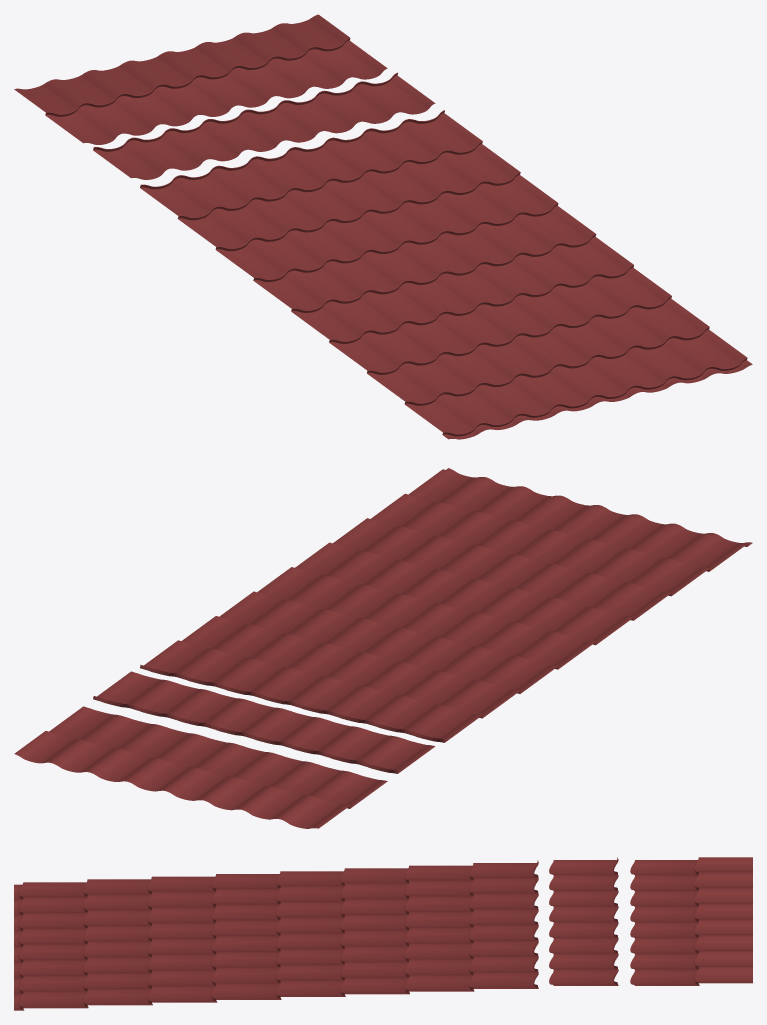
The model's file is roofingsheet.glb.
The picture shows the model from 3 angles, top to bottom: view 1: azimuth 30°, elevation 25°; view 2: azimuth 150°, elevation 25°; view 3: azimuth 270°, elevation 25°; orthographic projection. The views are drawn at different scales.
Parts seen in each view (by area): view 1: metal roof tiles; view 2: metal roof tiles; view 3: metal roof tiles.
Boxes of the visible parts, x1,y1,x2,y2 form: metal roof tiles: [14, 14, 752, 439]; metal roof tiles: [14, 468, 752, 828]; metal roof tiles: [14, 857, 752, 1010].
Bounding box in the file's own units: 1577 × 179 × 3897.
